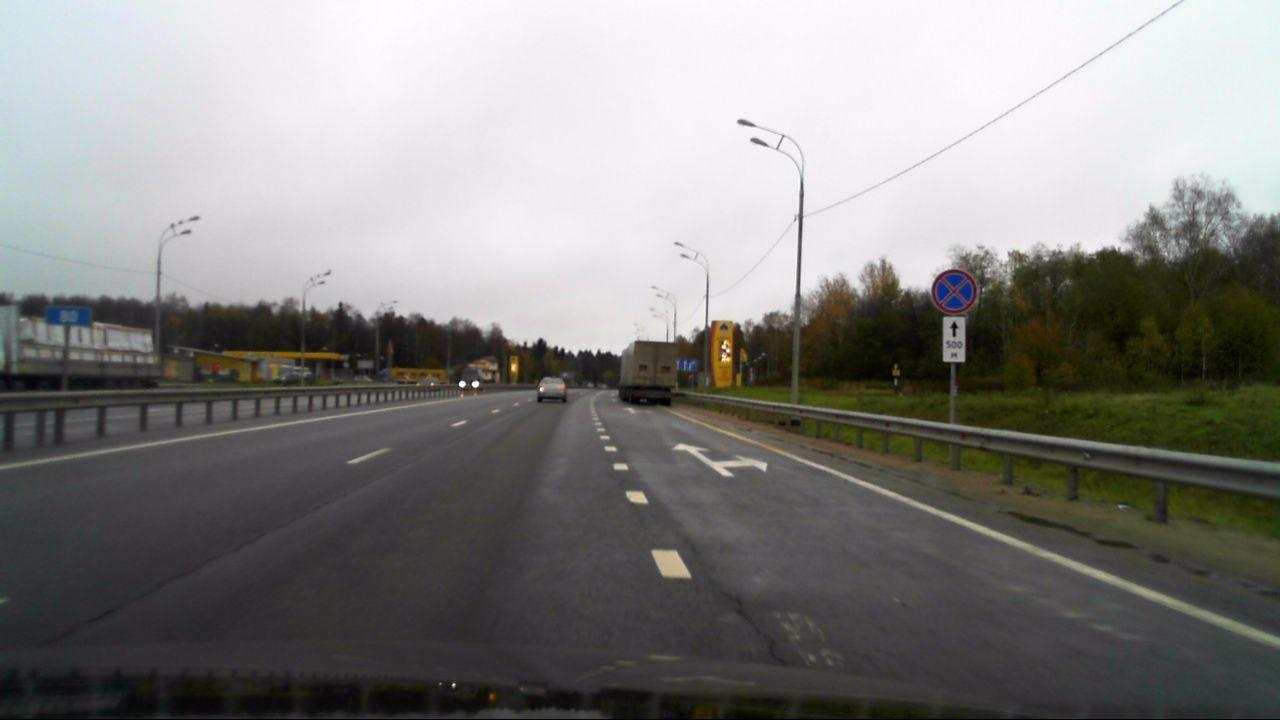3_27: (930, 267, 978, 314)
5_15_1: (673, 355, 698, 372)
8_2_2: (944, 315, 966, 361)
